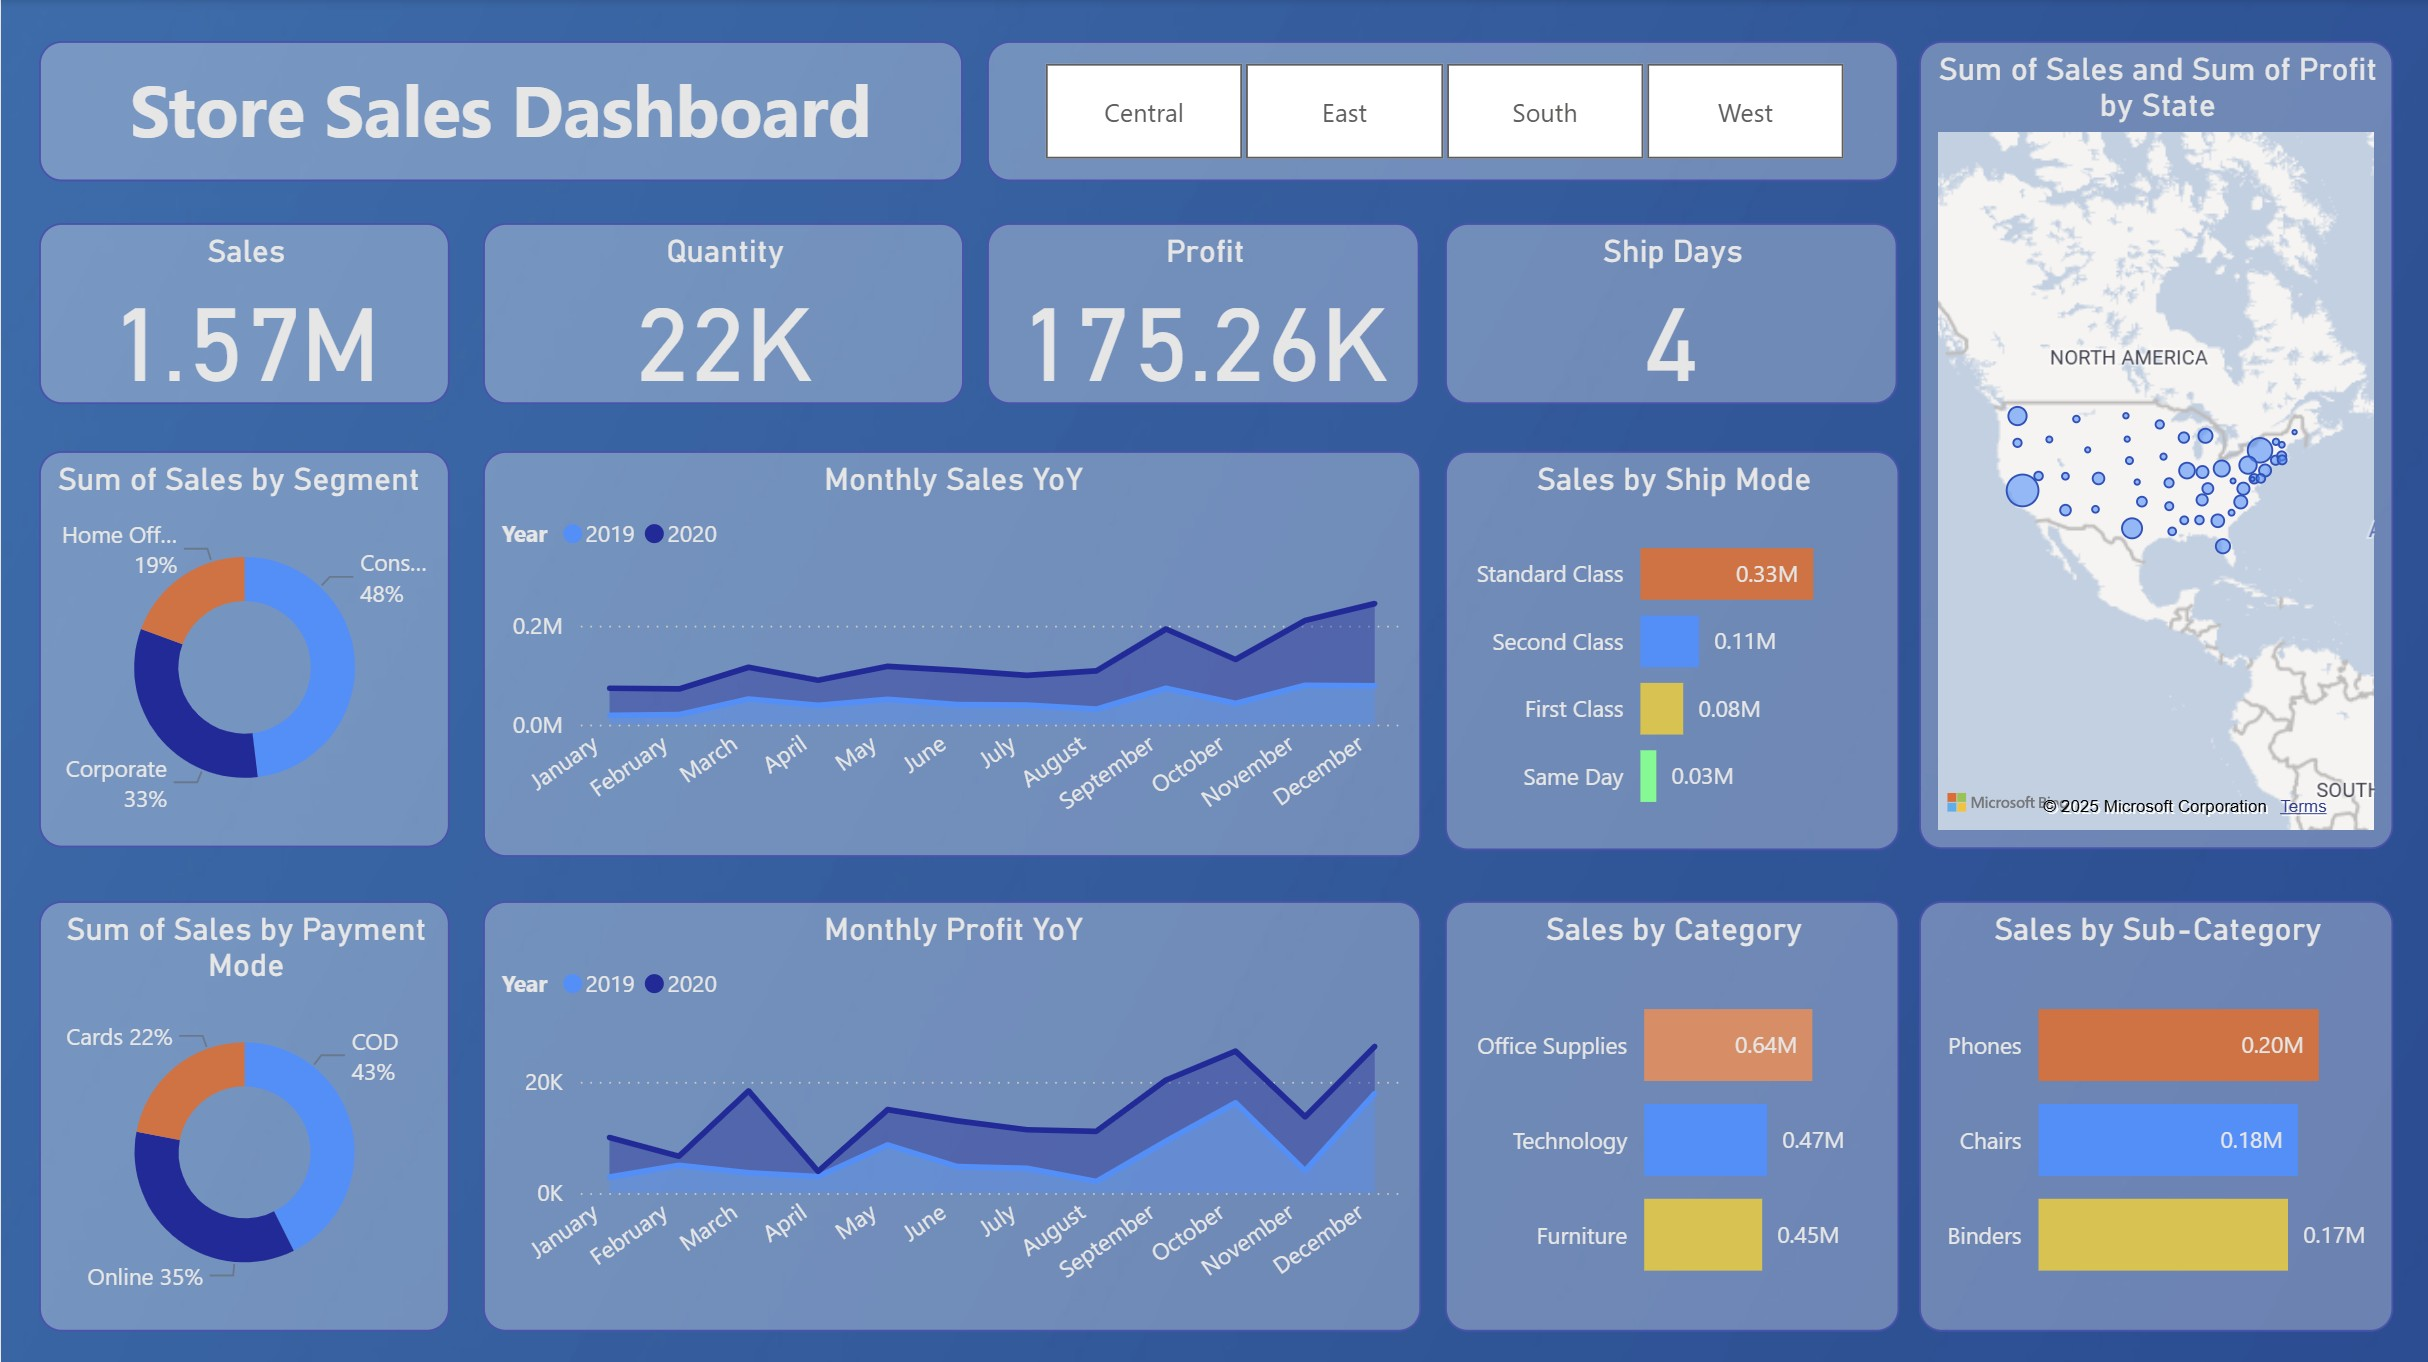

What the dashboard file says about the page in this screenshot:
{"tool":"powerbi","page":{"name":"Page 1","canvas":[1280,720],"ordinal":0},"visuals":[{"type":"clusteredBarChart","title":"Sales by Category","fields":{"Category":["Sheet1.Category"],"Y":["Sum(Sheet1.Sales)"]},"box":[761.1,475.5,239.7,226.9],"z":0},{"type":"clusteredBarChart","title":"Sales by Sub-Category","fields":{"Y":["Sum(Sheet1.Sales)"],"Category":["Sheet1.Sub-Category"]},"box":[1011,475.5,249.9,226.9],"z":1000},{"type":"clusteredBarChart","title":"Sales by Ship Mode","fields":{"Y":["Sum(Sheet1.Sales)"],"Category":["Sheet1.Ship Mode"]},"box":[761.1,238.4,239.7,210.4],"z":2000},{"type":"stackedAreaChart","title":"Monthly Sales YoY","fields":{"Category":["Sheet1.Order Date.Variation.Date Hierarchy.Month","Sheet1.Order Date.Variation.Date Hierarchy.Day"],"Y":["Sum(Sheet1.Sales)"],"Series":["Sheet1.Order Date.Variation.Date Hierarchy.Year"]},"box":[253.7,238.4,494.7,214.2],"z":3000},{"type":"stackedAreaChart","title":"Monthly Profit YoY","fields":{"Category":["Sheet1.Order Date.Variation.Date Hierarchy.Month","Sheet1.Order Date.Variation.Date Hierarchy.Day"],"Series":["Sheet1.Order Date.Variation.Date Hierarchy.Year"],"Y":["Sum(Sheet1.Profit)"]},"box":[253.7,475.5,494.7,226.9],"z":4000},{"type":"map","fields":{"Category":["Sheet1.State"],"Size":["Sum(Sheet1.Sales)"]},"box":[1011,21.7,249.9,425.8],"z":5000},{"type":"donutChart","fields":{"Category":["Sheet1.Segment"],"Y":["Sum(Sheet1.Sales)"]},"box":[20.4,238.4,216.7,209.1],"z":6000},{"type":"donutChart","fields":{"Category":["Sheet1.Payment Mode"],"Y":["Sum(Sheet1.Sales)"]},"box":[20.4,475.5,216.7,226.9],"z":7000},{"type":"slicer","fields":{"Values":["Sheet1.Region"]},"box":[520.2,21.7,480.6,73.9],"z":8000},{"type":"textbox","box":[20.4,21.7,487,73.9],"z":9000},{"type":"card","title":"Sales","fields":{"Values":["Sum(Sheet1.Sales)"]},"box":[20.4,118.6,216.7,95.6],"z":10000},{"type":"card","title":"Quantity","fields":{"Values":["Sum(Sheet1.Quantity)"]},"box":[253.7,118.6,253.7,95.6],"z":11000},{"type":"card","title":"Profit","fields":{"Values":["Sum(Sheet1.Profit)"]},"box":[520.2,118.6,228.2,95.6],"z":12000},{"type":"card","title":"Ship Days","fields":{"Values":["Avg(Sheet1.AvgDelivery)"]},"box":[761.1,118.6,238.4,95.6],"z":13000}]}

Visuals, with their boxes in screenshot pixels (x1, y1, x2, y2), scaled from the page's 1280x720 canvas onto the 2428x1362 screenshot:
"Sales by Category" clusteredBarChart: [left=1444, top=899, right=1898, bottom=1329]
"Sales by Sub-Category" clusteredBarChart: [left=1918, top=899, right=2392, bottom=1329]
"Sales by Ship Mode" clusteredBarChart: [left=1444, top=451, right=1898, bottom=849]
"Monthly Sales YoY" stackedAreaChart: [left=481, top=451, right=1420, bottom=856]
"Monthly Profit YoY" stackedAreaChart: [left=481, top=899, right=1420, bottom=1329]
map - Sheet1.State x Sum(Sheet1.Sales): [left=1918, top=41, right=2392, bottom=847]
donutChart - Sheet1.Segment x Sum(Sheet1.Sales): [left=39, top=451, right=450, bottom=847]
donutChart - Sheet1.Payment Mode x Sum(Sheet1.Sales): [left=39, top=899, right=450, bottom=1329]
slicer - Sheet1.Region: [left=987, top=41, right=1898, bottom=181]
textbox: [left=39, top=41, right=962, bottom=181]
"Sales" card: [left=39, top=224, right=450, bottom=405]
"Quantity" card: [left=481, top=224, right=962, bottom=405]
"Profit" card: [left=987, top=224, right=1420, bottom=405]
"Ship Days" card: [left=1444, top=224, right=1896, bottom=405]
